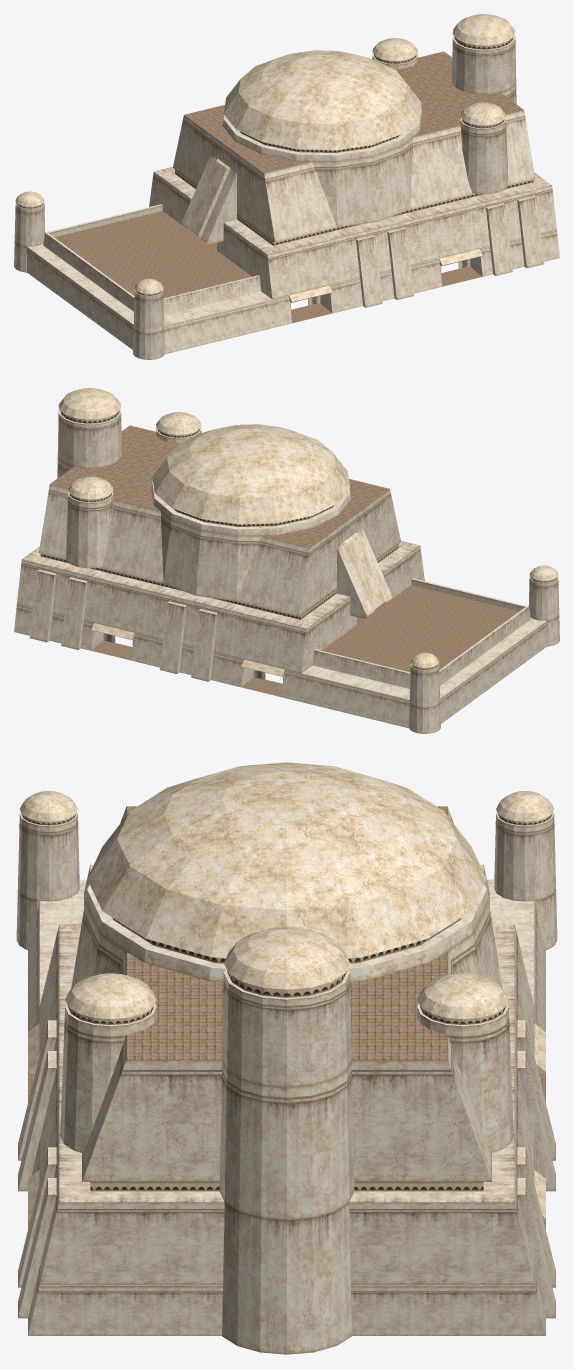
The model's file is mun_tato_hospital_s01_r0_mesh_l0.fbx.
The picture shows the model from 3 angles, top to bottom: view 1: azimuth 30°, elevation 25°; view 2: azimuth 150°, elevation 25°; view 3: azimuth 270°, elevation 25°; orthographic projection. The views are drawn at different scales.
Parts seen in each view (by area): view 1: mesh_node; view 2: mesh_node; view 3: mesh_node.
Boxes of the visible parts, <box> form: mesh_node: <box>14,14,559,359</box>; mesh_node: <box>14,388,559,733</box>; mesh_node: <box>16,762,557,1354</box>.
Bounding box in the file's own units: 97.9 × 41.44 × 52.24.
